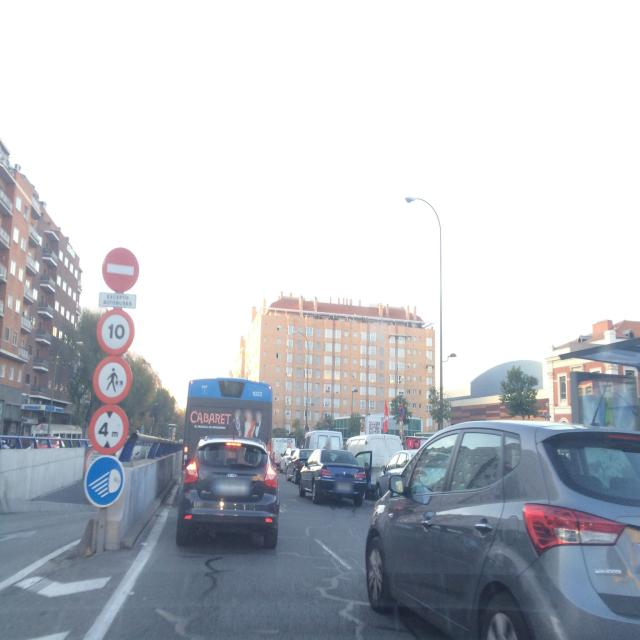car: (364, 417, 640, 640), (176, 436, 280, 548), (298, 448, 368, 507), (376, 448, 420, 498), (286, 448, 314, 483), (279, 447, 297, 473)
